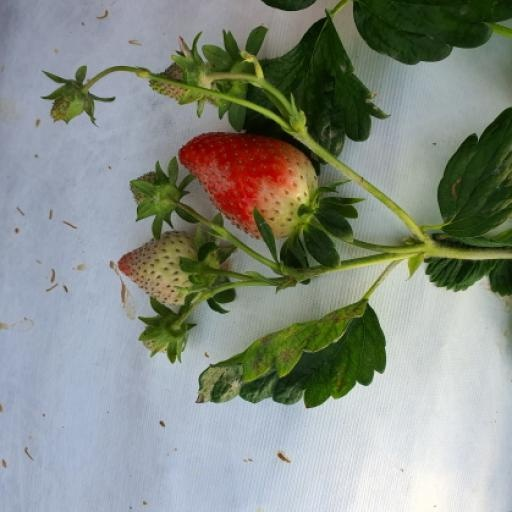Powdery Mildew Fruit: (263, 279, 330, 353)
